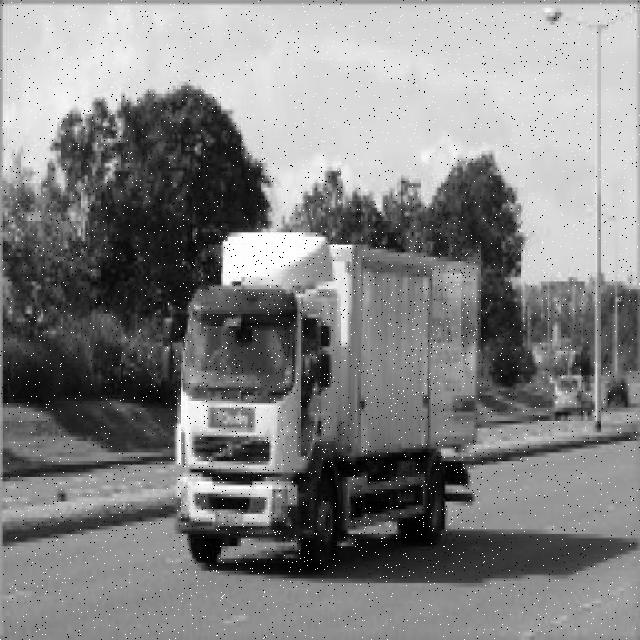Box Truck: (175, 232, 483, 574)
